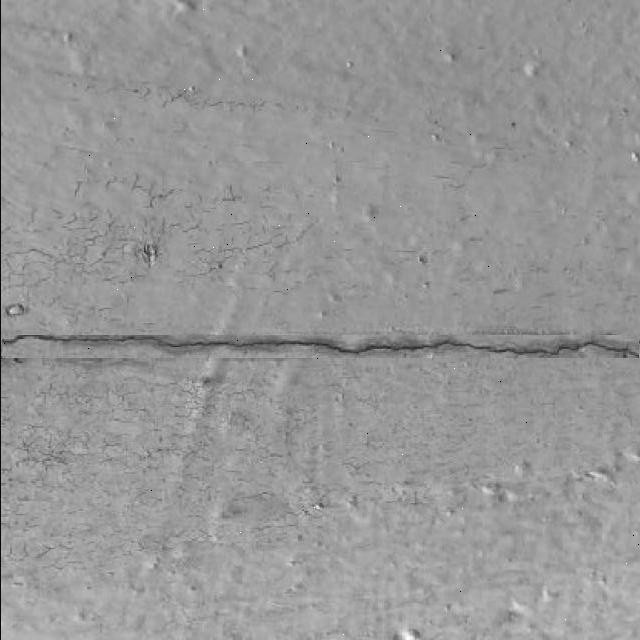crack: (1, 329, 639, 361)
